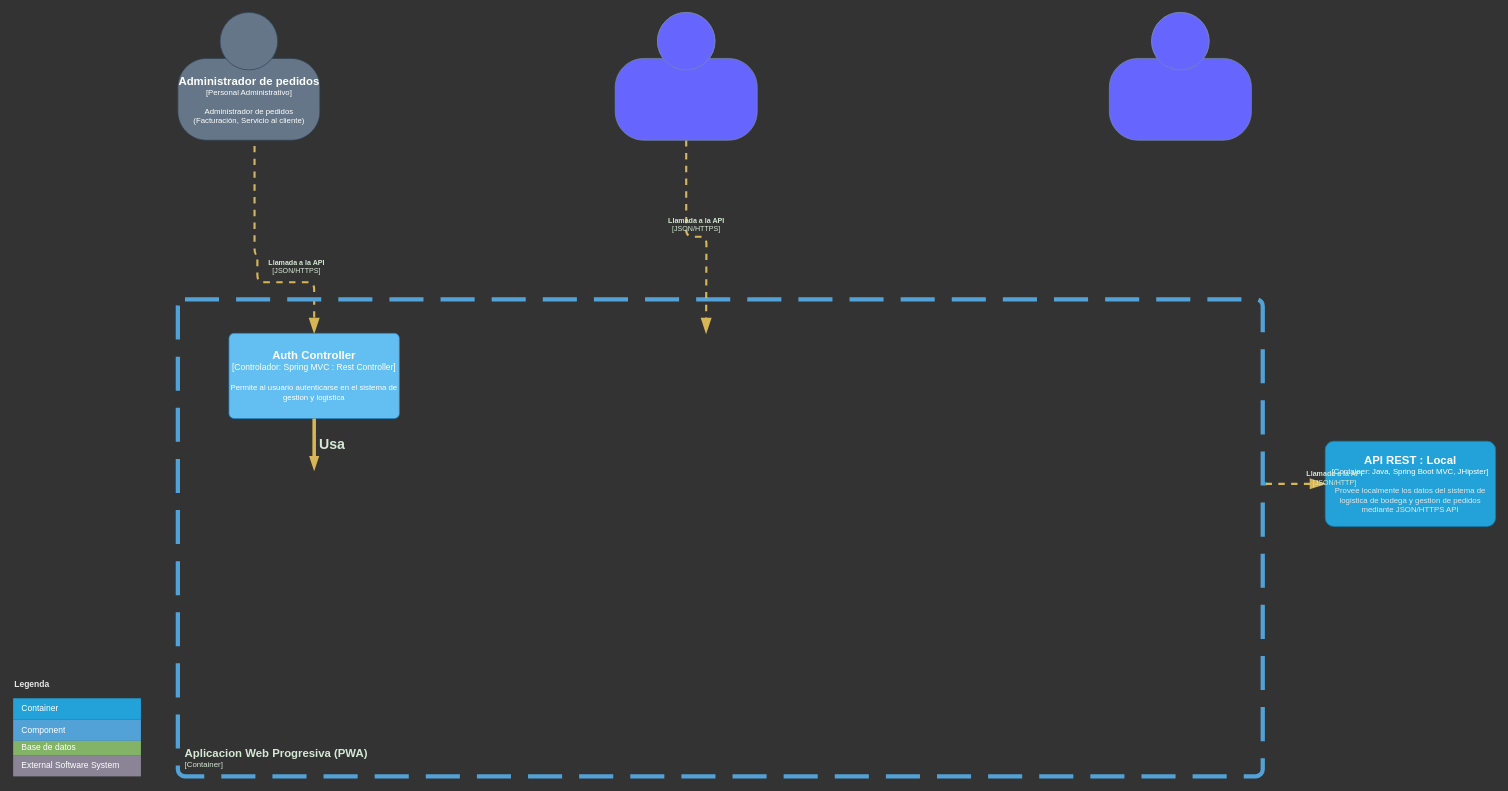
Some shapes in this 1508 by 791 pixel diagram are drawn without their labels. The shapes that lost their labels are listed below. From the top down, each one's centre as x and y in pixels, then its label:
[686,76]: Alistador de Pedidos [Personal Bodega ] Gestiona alisto y despacho de pedidos
[1180,76]: Bodeguero [Personal Bodega ] Administra inventario
